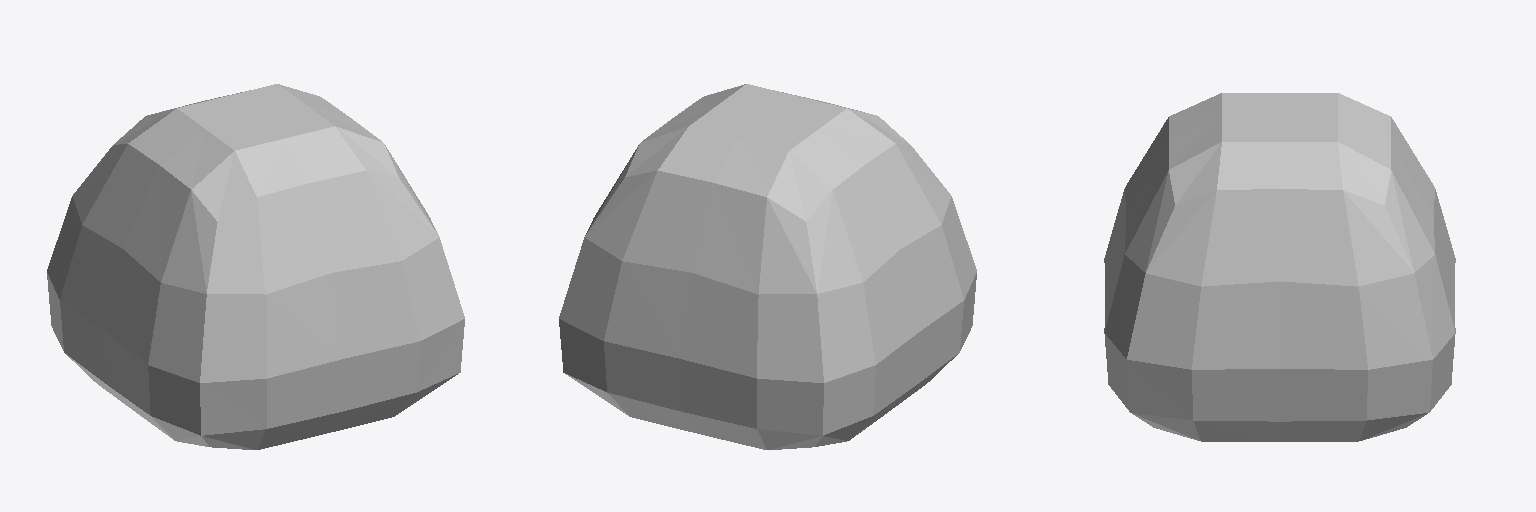
File: smallrock.obj
3 renders of one model, left to right at view 1: azimuth 30°, elevation 25°; view 2: azimuth 150°, elevation 25°; view 3: azimuth 270°, elevation 25°, orthographic.
Parts seen in each view (by area): view 1: stone1_S; view 2: stone1_S; view 3: stone1_S.
Boxes of the visible parts, box(x1,y1,x2,y2) form: stone1_S: box(47, 84, 464, 449); stone1_S: box(559, 84, 976, 449); stone1_S: box(1104, 93, 1455, 441).
Size of the model in its own units: 1.43 by 1.25 by 1.43.